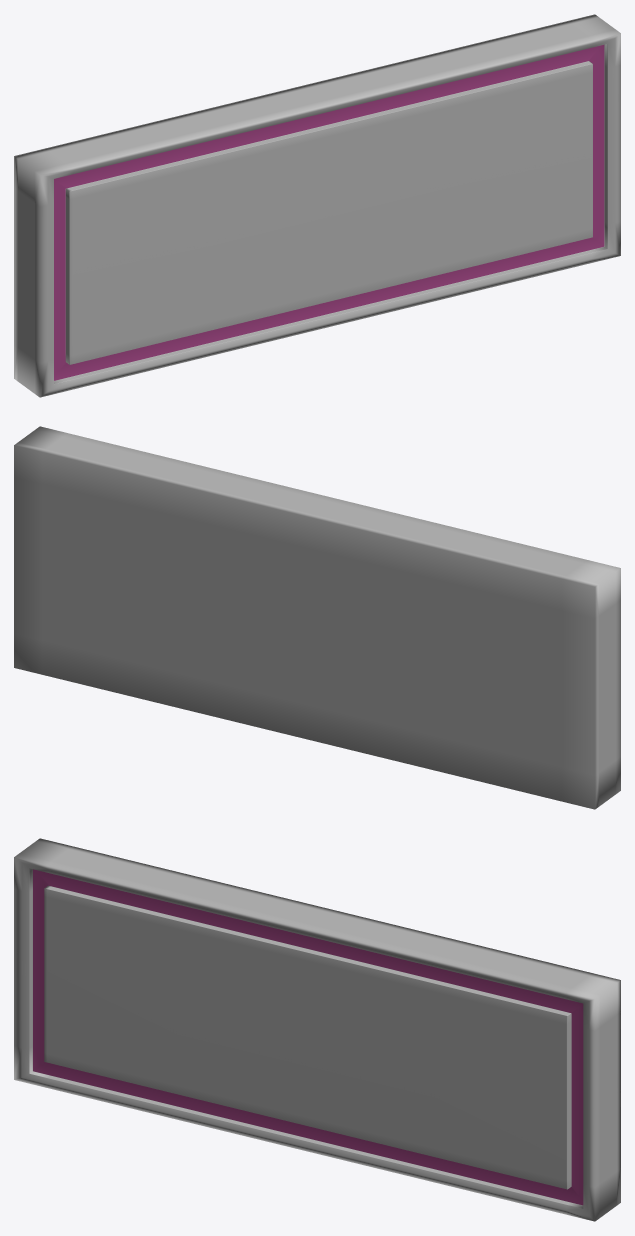
File: Rectangular button.fbx
3 views of the same model, one above another, from view 1: azimuth 30°, elevation 25°; view 2: azimuth 150°, elevation 25°; view 3: azimuth 330°, elevation 25° (orthographic).
Parts seen in each view (by area): view 1: polySurface1; view 2: polySurface1; view 3: polySurface1.
Part boxes in pixels (left/top/right/bottom): polySurface1: left=14, top=14, right=620, bottom=397; polySurface1: left=14, top=426, right=620, bottom=809; polySurface1: left=14, top=838, right=620, bottom=1221.
Bounding box in the file's own units: 6.75 × 2.47 × 0.5217.
